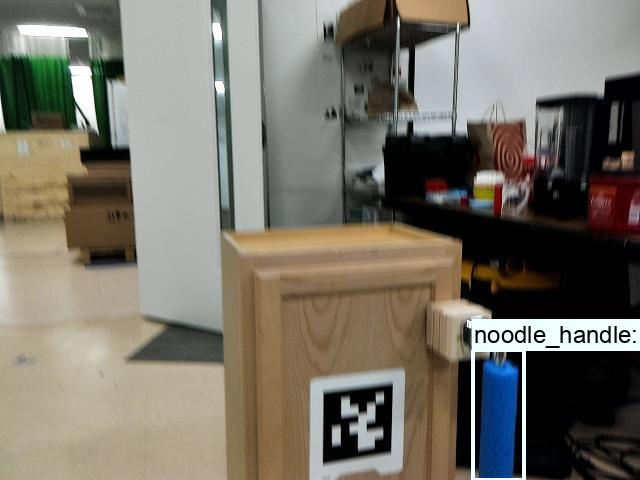noodle_handle: (472, 348, 523, 480)
